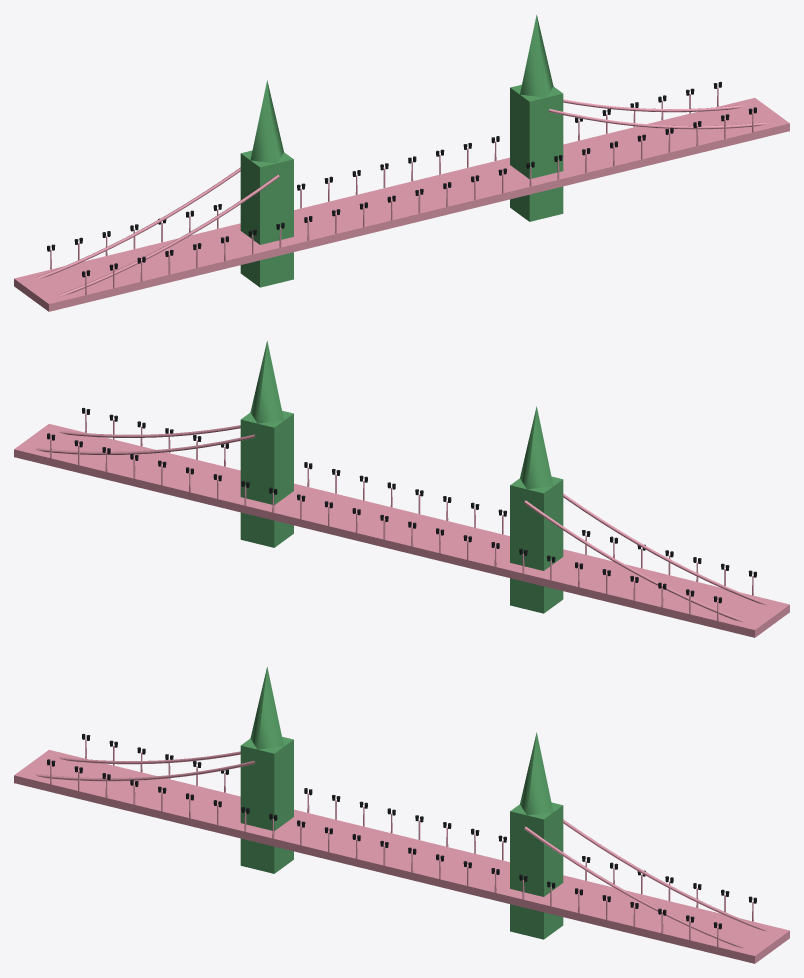
Rendered from albertbr.glb.
The picture shows the model from 3 angles, top to bottom: view 1: azimuth 30°, elevation 25°; view 2: azimuth 150°, elevation 25°; view 3: azimuth 330°, elevation 25°; orthographic projection.
Visible parts, largest first — view 1: albertbr; view 2: albertbr; view 3: albertbr.
Boxes of the visible parts, x1,y1,x2,y2 form: albertbr: (14, 15, 789, 311); albertbr: (14, 341, 789, 637); albertbr: (14, 667, 789, 963).
Size of the model in its own units: 1.98 by 0.5013 by 0.1704.
